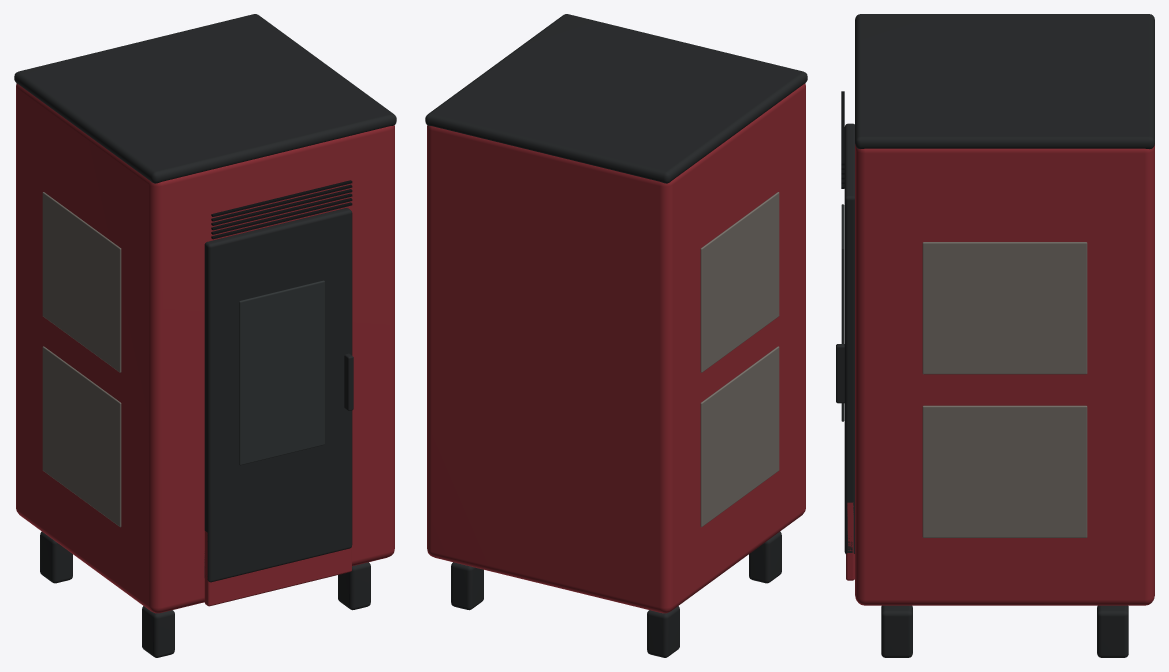
The model's file is ravelli-rv80-bordeaux.glb.
3 renders of one model, left to right at view 1: azimuth 30°, elevation 25°; view 2: azimuth 150°, elevation 25°; view 3: azimuth 270°, elevation 25°, orthographic. The views are drawn at different scales.
Visible parts, largest first — view 1: Corpo.001, Coperchio.001, Porta.001, Vetro sportello.001, Riquadro laterale.001, Riquadro laterale, Pannello inferiore.001, Piede, Piede.002, Piede.001, Griglia superiore.009, Griglia superiore.007 (+5 smaller); view 2: Corpo.001, Coperchio.001, Riquadro laterale.001, Riquadro laterale, Piede.001, Piede.003, Piede; view 3: Corpo.001, Coperchio.001, Riquadro laterale.002, Riquadro laterale.003, Porta.001, Piede.002, Piede.003, Vetro sportello.001, Pannello inferiore.001, Maniglia.001.
Boxes of the visible parts, <box> form: Corpo.001: <box>16,83,394,613</box>; Coperchio.001: <box>14,14,396,183</box>; Porta.001: <box>204,208,352,582</box>; Vetro sportello.001: <box>239,280,324,465</box>; Riquadro laterale.001: <box>42,192,121,372</box>; Riquadro laterale: <box>42,346,121,527</box>; Pannello inferiore.001: <box>204,531,351,606</box>; Piede: <box>142,606,174,657</box>; Piede.002: <box>338,562,370,610</box>; Piede.001: <box>40,531,72,583</box>; Griglia superiore.009: <box>211,193,352,230</box>; Griglia superiore.007: <box>211,184,352,221</box>; Corpo.001: <box>427,83,805,613</box>; Coperchio.001: <box>425,14,807,183</box>; Riquadro laterale.001: <box>700,192,779,372</box>; Riquadro laterale: <box>700,346,779,527</box>; Piede.001: <box>647,606,679,657</box>; Piede.003: <box>451,562,483,610</box>; Piede: <box>749,531,781,583</box>; Corpo.001: <box>855,144,1154,605</box>; Coperchio.001: <box>855,14,1154,149</box>; Riquadro laterale.002: <box>922,405,1087,537</box>; Riquadro laterale.003: <box>922,242,1087,374</box>; Porta.001: <box>844,123,854,553</box>; Piede.002: <box>881,605,912,657</box>; Piede.003: <box>1097,605,1128,657</box>; Vetro sportello.001: <box>841,204,844,421</box>; Pannello inferiore.001: <box>846,502,854,580</box>; Maniglia.001: <box>836,344,844,403</box>.
Size of the model in its own units: 0.528 by 1.01 by 0.553.
